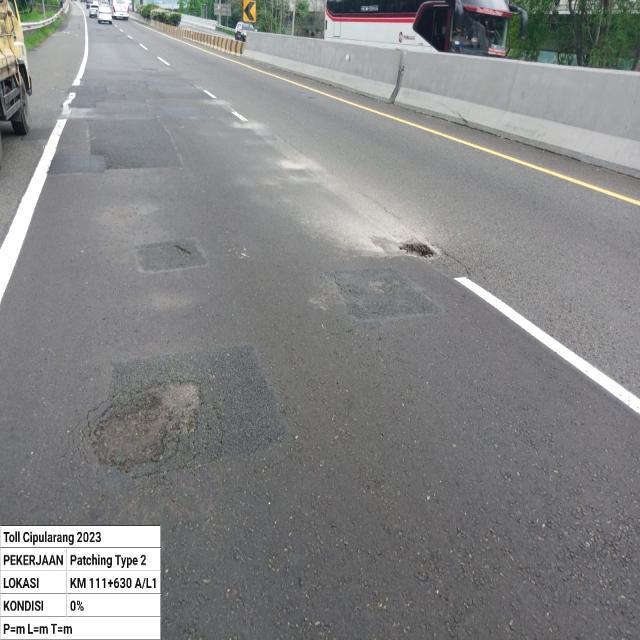Buraco: (82, 375, 209, 476), (396, 240, 439, 260), (169, 243, 195, 258)
